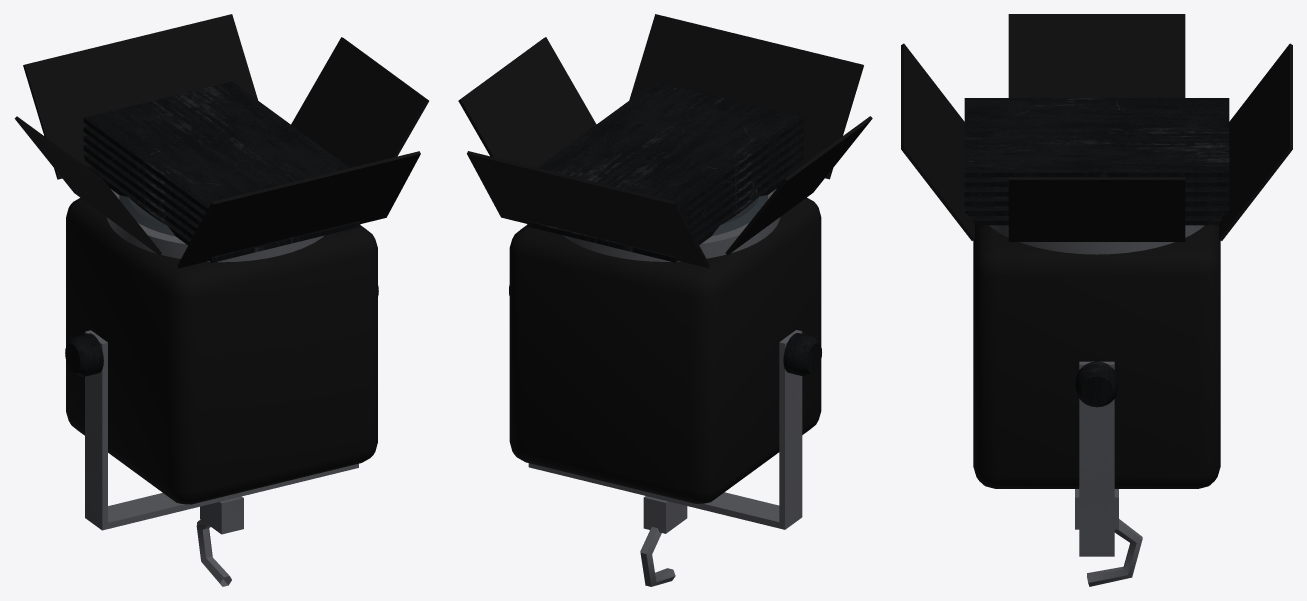
The model's file is fresnel_1k.gltf.
The picture shows the model from 3 angles, left to right: view 1: azimuth 30°, elevation 25°; view 2: azimuth 150°, elevation 25°; view 3: azimuth 270°, elevation 25°; orthographic projection. The views are drawn at different scales.
Parts seen in each view (by area): view 1: fresnel_1k; view 2: fresnel_1k; view 3: fresnel_1k.
Part boxes in pixels (<box>): fresnel_1k: <box>14,14,428,586</box>; fresnel_1k: <box>458,14,872,586</box>; fresnel_1k: <box>901,14,1292,586</box>.
Size of the model in its own units: 0.4439 by 0.6126 by 0.4439.
Materials: 5 (3 with a texture image).
